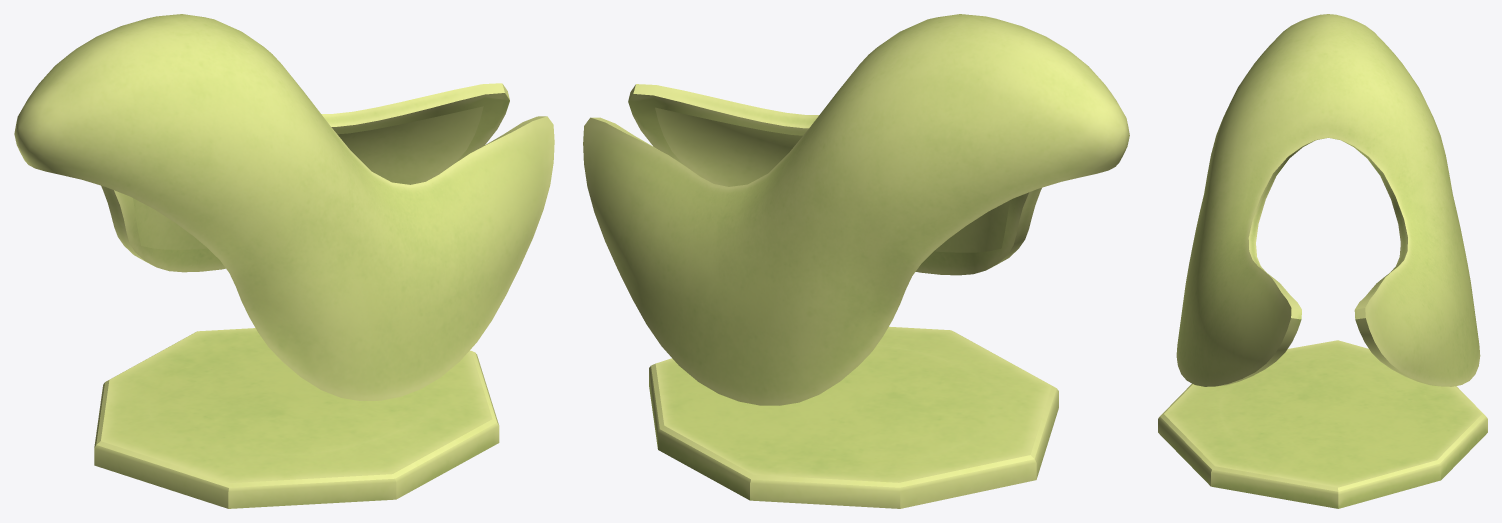
Rendered from GOT7_02.glb.
3 views of the same model, side by side, from view 1: azimuth 30°, elevation 25°; view 2: azimuth 150°, elevation 25°; view 3: azimuth 270°, elevation 25° (orthographic). The views are drawn at different scales.
Bounding box in the file's own units: 0.2459 × 0.1969 × 0.1684.
Materials: 1 (1 with a texture image).
